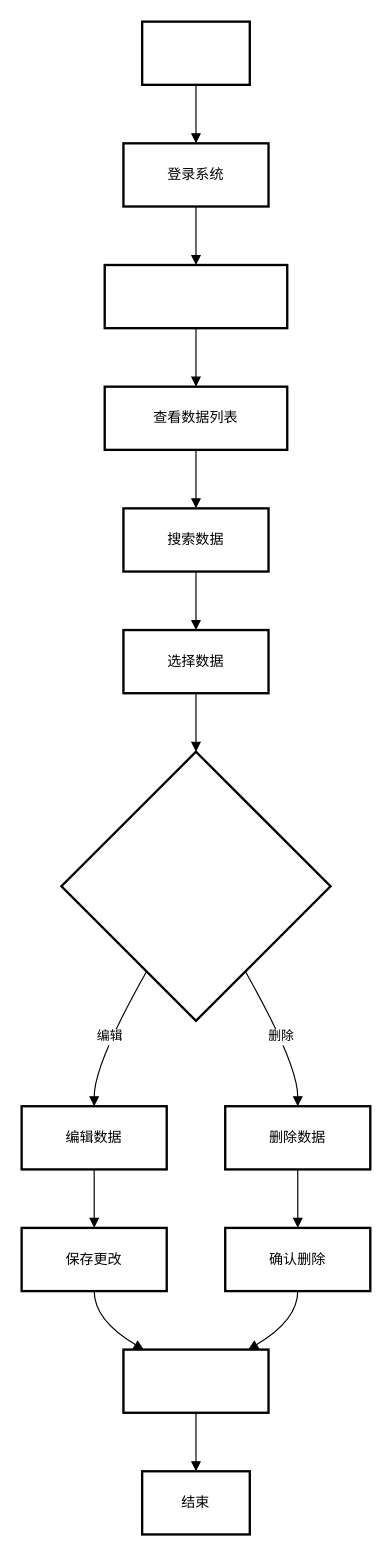
This 391x1555 diagram has some shape labels left out. The shapes that lost their labels are listed below. From the top down, each one's centre as x and y in pixels, then its label:
At (x=195, y=52): "开始".
At (x=195, y=296): "进入数据管理".
At (x=195, y=885): "决策：是否编辑或删除？".
At (x=195, y=1380): "退出系统".
